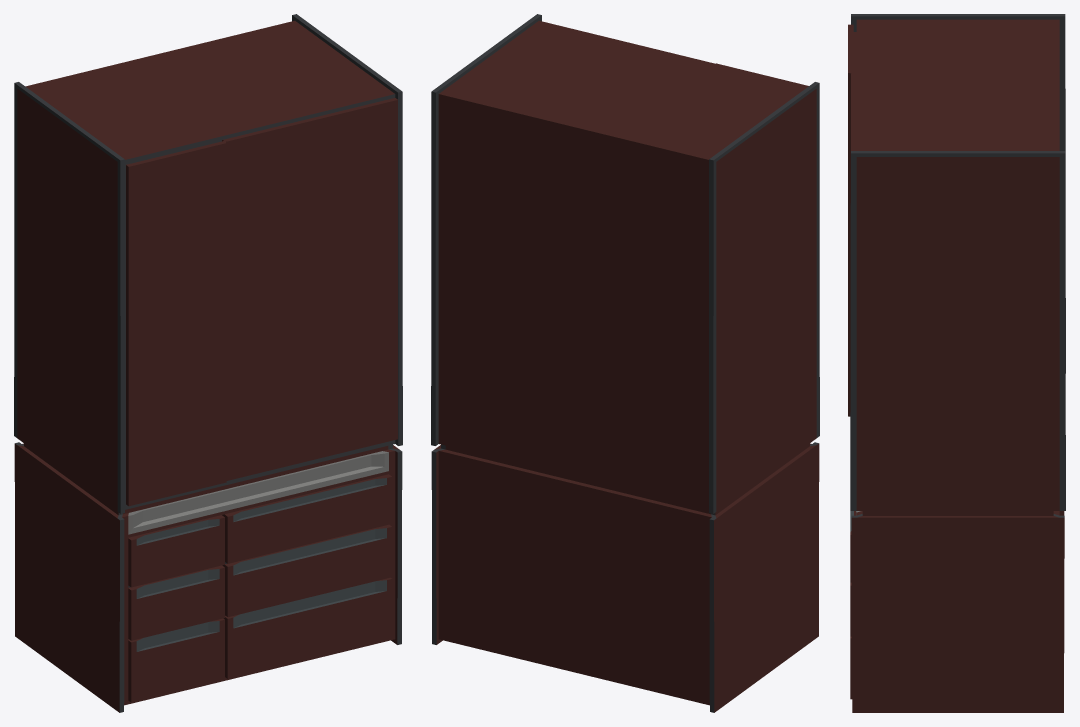
Rendered from modernrefrigerator_01_C.gltf.
3 views of the same model, side by side, from view 1: azimuth 30°, elevation 25°; view 2: azimuth 150°, elevation 25°; view 3: azimuth 270°, elevation 25° (orthographic).
Parts seen in each view (by area): view 1: modernrefrigerator_01_C, rightdoorofamodernrefrigerator_01_C, Leftdoorofamodernrefrigerator_01_C, pulloutrefrigeratorshelfright_01_03_C, pulloutrefrigeratorshelfright_01_02_C, pulloutrefrigeratorshelflong_01_C, pulloutrefrigeratorshelfleft_01_03_C, pulloutrefrigeratorshelfleft_01_02_C, pulloutrefrigeratorshelfleft_01_01_C; view 2: modernrefrigerator_01_C; view 3: modernrefrigerator_01_C, Leftdoorofamodernrefrigerator_01_C, rightdoorofamodernrefrigerator_01_C.
Boxes of the visible parts, x1,y1,x2,y2 form: modernrefrigerator_01_C: (14,14,402,712); rightdoorofamodernrefrigerator_01_C: (222,98,397,480); Leftdoorofamodernrefrigerator_01_C: (126,140,226,506); pulloutrefrigeratorshelfright_01_03_C: (223,577,392,678); pulloutrefrigeratorshelfright_01_02_C: (222,524,392,617); pulloutrefrigeratorshelflong_01_C: (222,474,392,563); pulloutrefrigeratorshelfleft_01_03_C: (128,618,224,702); pulloutrefrigeratorshelfleft_01_02_C: (128,565,224,640); pulloutrefrigeratorshelfleft_01_01_C: (128,515,224,587); modernrefrigerator_01_C: (431,14,819,712); modernrefrigerator_01_C: (850,14,1065,712); Leftdoorofamodernrefrigerator_01_C: (848,24,856,416); rightdoorofamodernrefrigerator_01_C: (851,73,856,150).
Bounding box in the file's own units: 1.3 × 2.43 × 0.859.
Materials: 1 (1 with a texture image).
